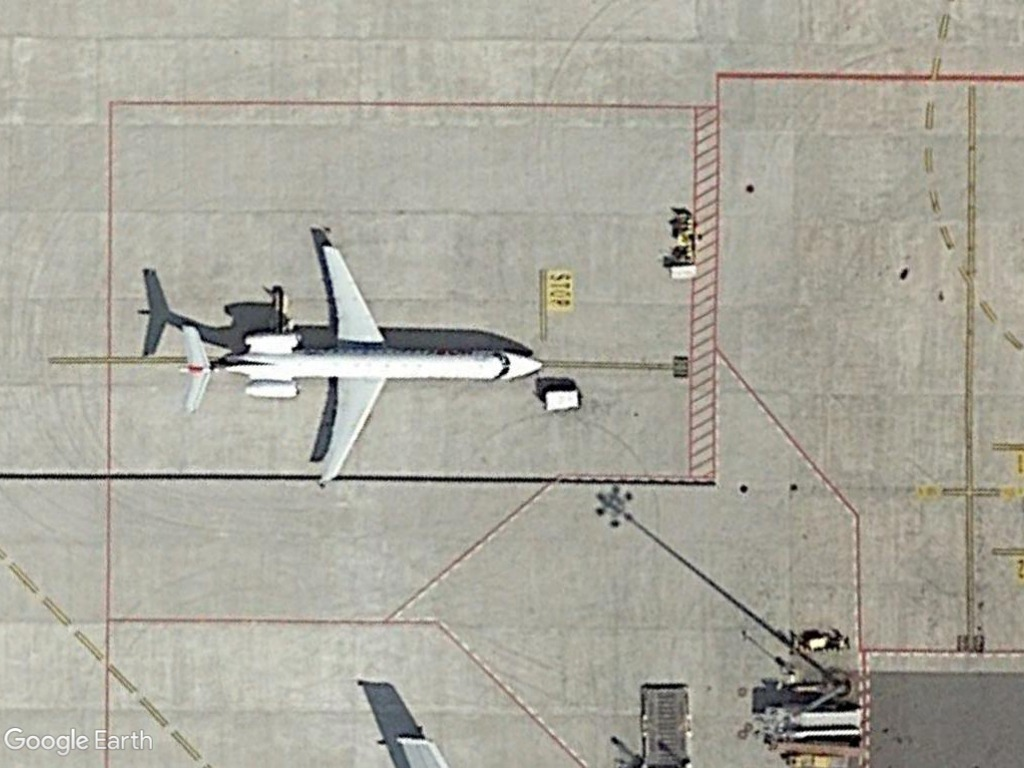chartered: (170, 231, 550, 498)
stairtruck: (764, 704, 868, 747)
